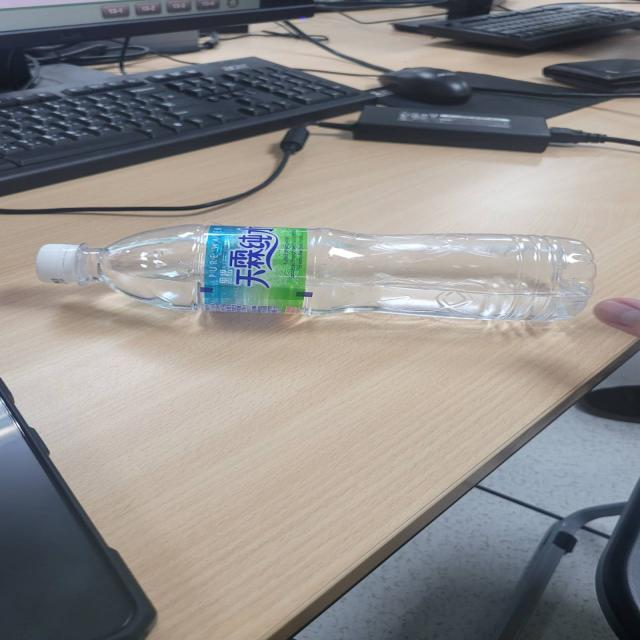PET bottle: (32, 220, 598, 324)
